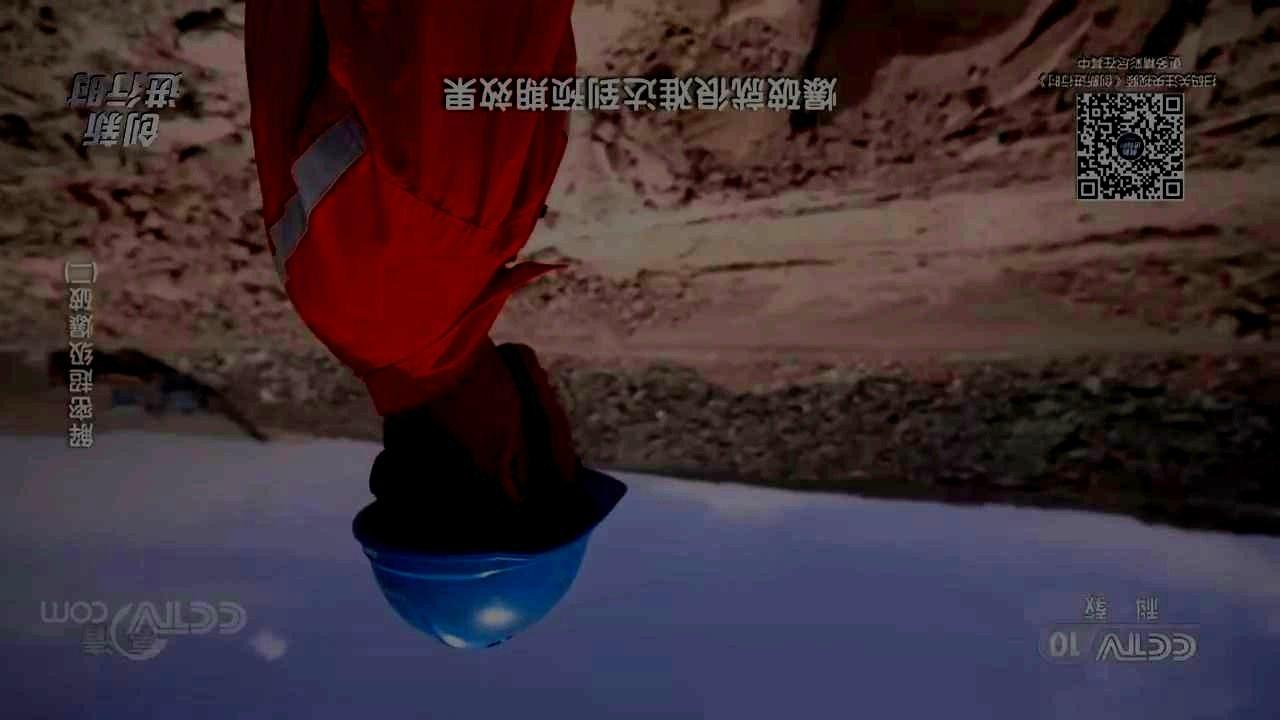helmet: (352, 343, 629, 651)
